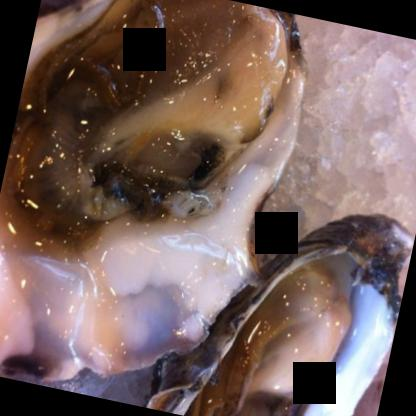oyster: (0, 0, 326, 405)
